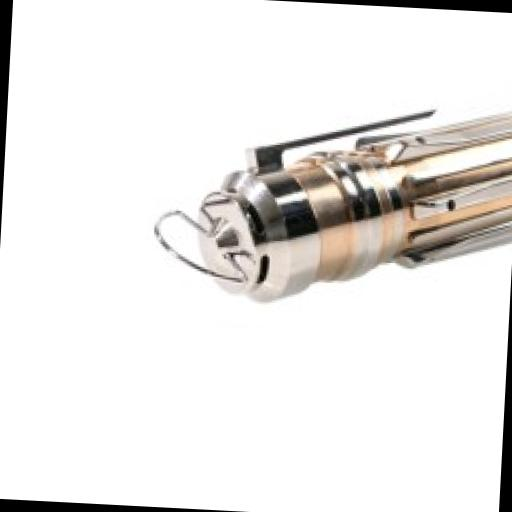lightsaber: (135, 75, 512, 321)
